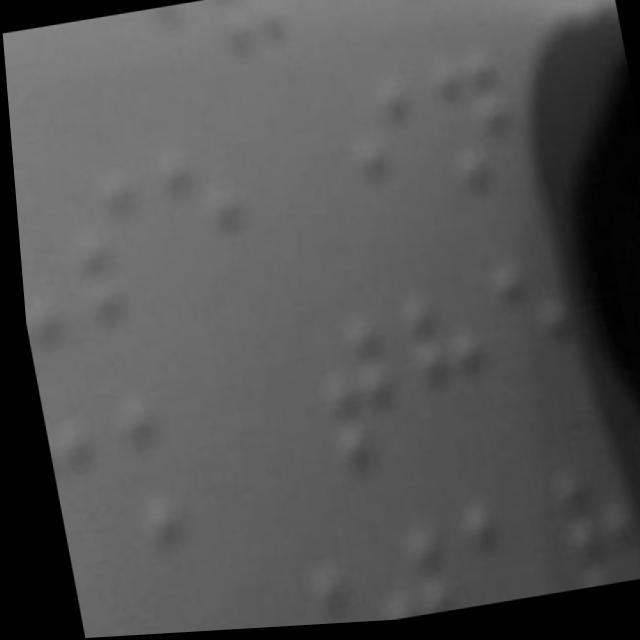braiile: (421, 39, 530, 228), (97, 370, 210, 549), (388, 272, 502, 448), (336, 67, 443, 245), (154, 133, 261, 310), (58, 160, 161, 337), (479, 248, 585, 419), (303, 313, 407, 480), (440, 470, 551, 612), (351, 498, 450, 625), (33, 400, 109, 559), (13, 195, 60, 361)
